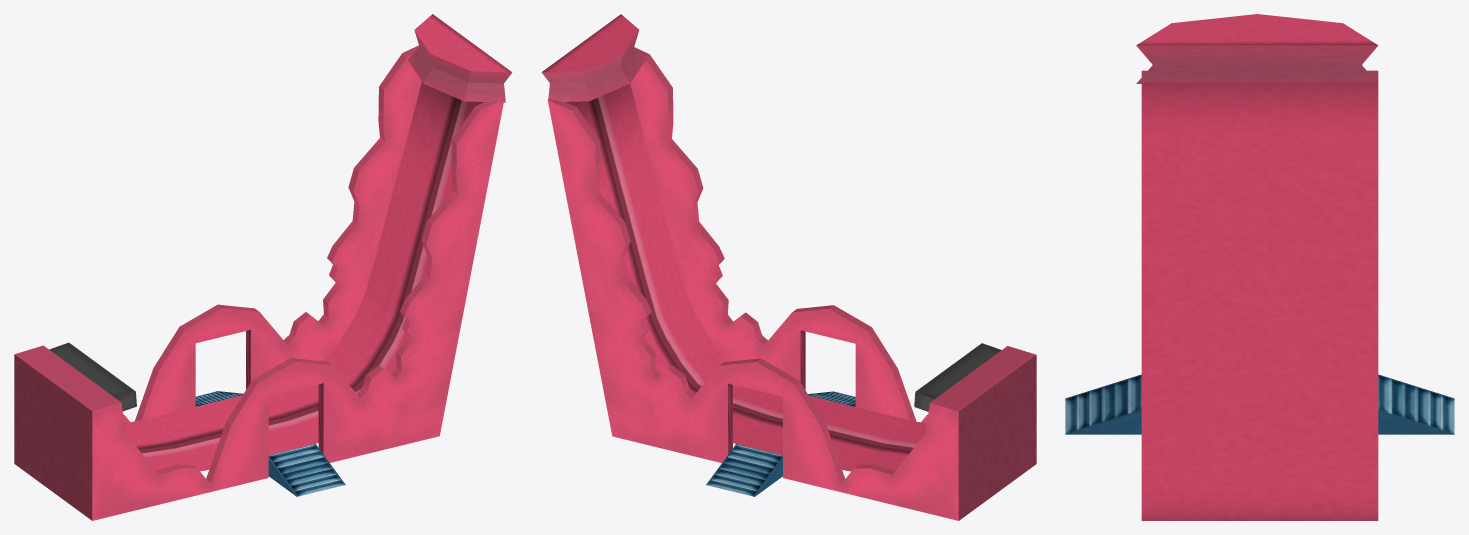
File: stomach.glb
3 views of the same model, side by side, from view 1: azimuth 30°, elevation 25°; view 2: azimuth 150°, elevation 25°; view 3: azimuth 270°, elevation 25° (orthographic). The views are drawn at different scales.
Parts seen in each view (by area): view 1: stomach; view 2: stomach; view 3: stomach.
Boxes of the visible parts, x1=… form: stomach: x1=14, y1=14, x2=512, y2=520; stomach: x1=541, y1=14, x2=1036, y2=520; stomach: x1=1065, y1=14, x2=1454, y2=520.
Bounding box in the file's own units: 2137 × 1704 × 1135.
1 material, 1 textured.
